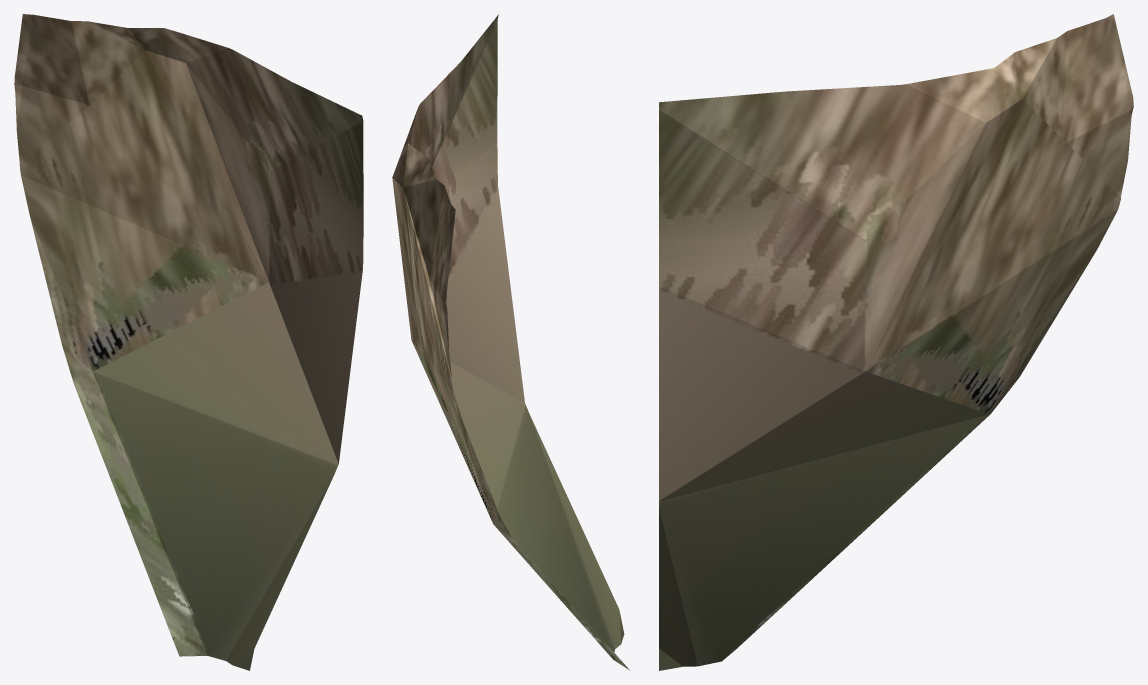
3 views of the same model, side by side, from view 1: azimuth 30°, elevation 25°; view 2: azimuth 150°, elevation 25°; view 3: azimuth 270°, elevation 25° (orthographic). The views are drawn at different scales.
Size of the model in its own units: 0.8872 by 2.95 by 2.
Materials: 2 (2 with a texture image).
